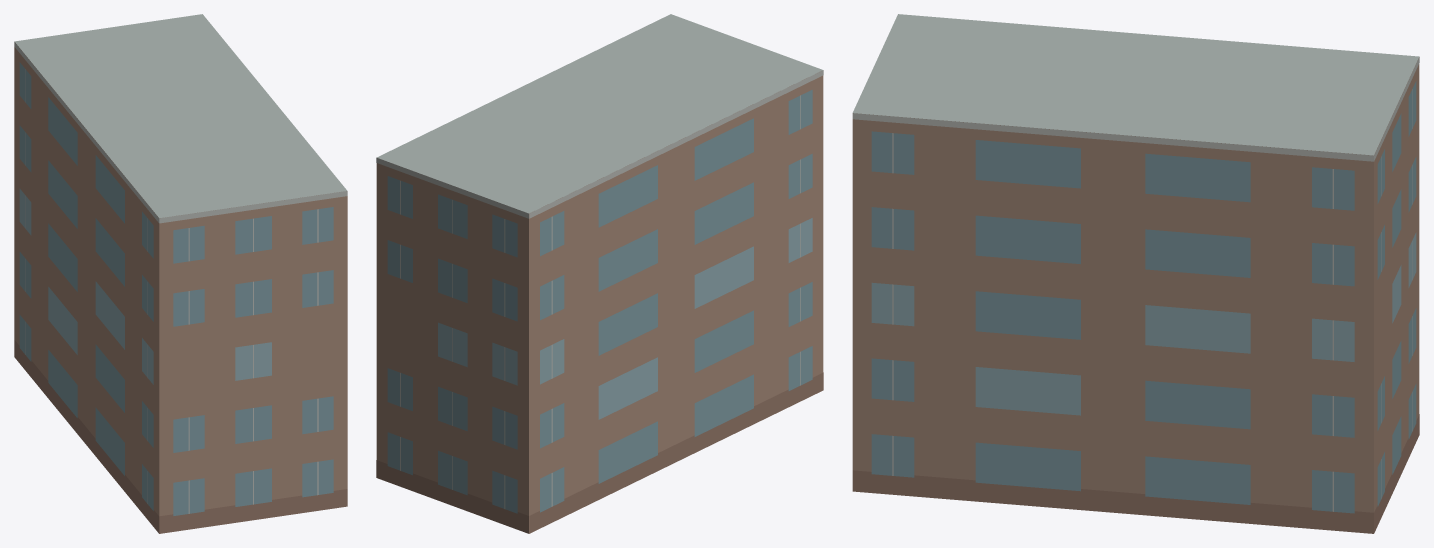
File: survey-upis-32621278.glb
The picture shows the model from 3 angles, left to right: view 1: azimuth 30°, elevation 25°; view 2: azimuth 150°, elevation 25°; view 3: azimuth 270°, elevation 25°; orthographic projection. The views are drawn at different scales.
Parts seen in each view (by area): view 1: survey-upis-32621278.tmp; view 2: survey-upis-32621278.tmp; view 3: survey-upis-32621278.tmp.
Boxes of the visible parts, bbox=[...] form: survey-upis-32621278.tmp: bbox=[14, 14, 347, 533]; survey-upis-32621278.tmp: bbox=[376, 14, 823, 533]; survey-upis-32621278.tmp: bbox=[852, 14, 1419, 533].
Size of the model in its own units: 11.88 by 14.8 by 20.11.
